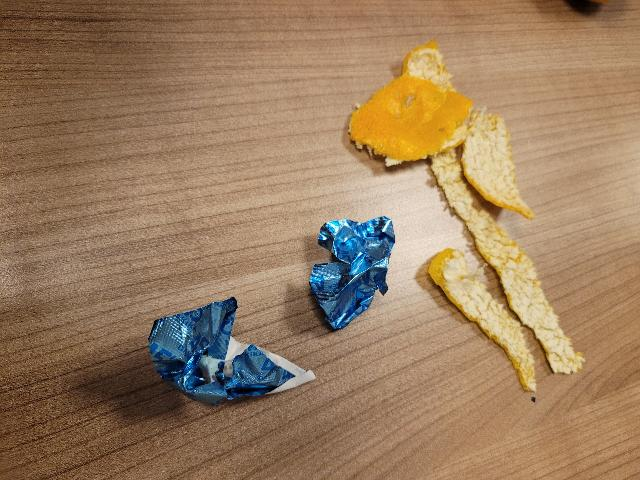Kagit: (147, 297, 315, 406), (294, 216, 398, 332)
Organik: (346, 39, 584, 395)
